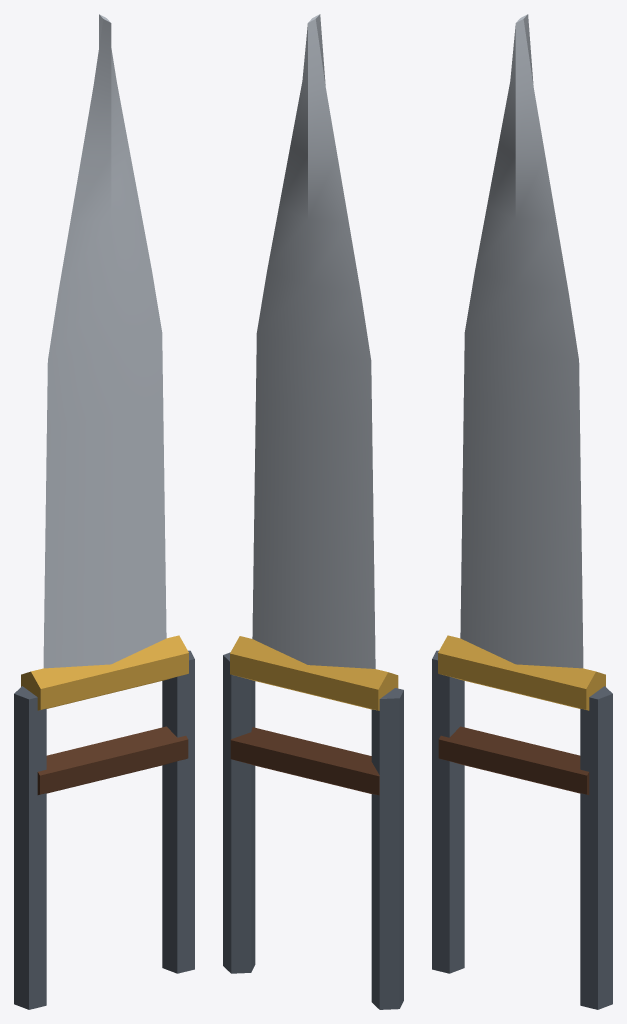
Rendered from Katar.fbx.
3 views of the same model, side by side, from view 1: azimuth 30°, elevation 25°; view 2: azimuth 150°, elevation 25°; view 3: azimuth 330°, elevation 25° (orthographic).
Parts seen in each view (by area): view 1: Katar; view 2: Katar; view 3: Katar.
Part boxes in pixels (x1,y1,x2,y2): Katar: [14, 14, 194, 1009]; Katar: [223, 14, 403, 1009]; Katar: [432, 14, 612, 1009].
Bounding box in the file's own units: 0.1071 × 0.56 × 0.0208.
